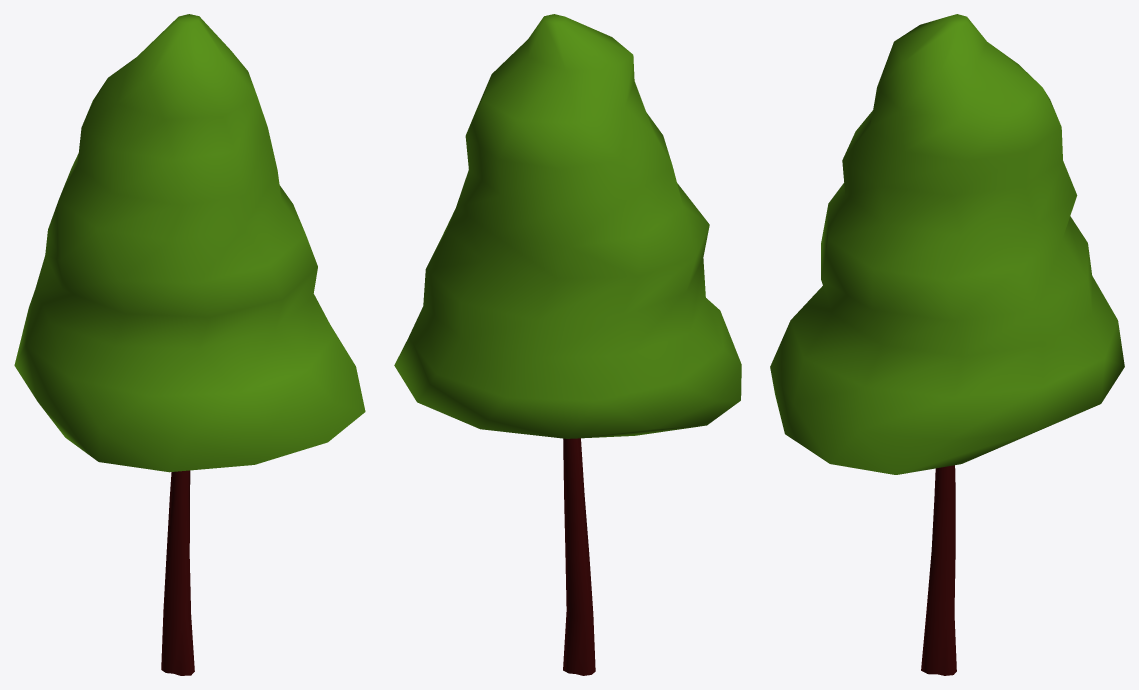
Rendered from Tree1.FBX.
3 views of the same model, side by side, from view 1: azimuth 30°, elevation 25°; view 2: azimuth 150°, elevation 25°; view 3: azimuth 270°, elevation 25° (orthographic). The views are drawn at different scales.
Parts seen in each view (by area): view 1: Tree1; view 2: Tree1; view 3: Tree1.
Part boxes in pixels (<box>): Tree1: <box>14,14,365,675</box>; Tree1: <box>394,14,741,675</box>; Tree1: <box>770,14,1124,675</box>.
Bounding box in the file's own units: 95.74 × 199 × 96.94.
